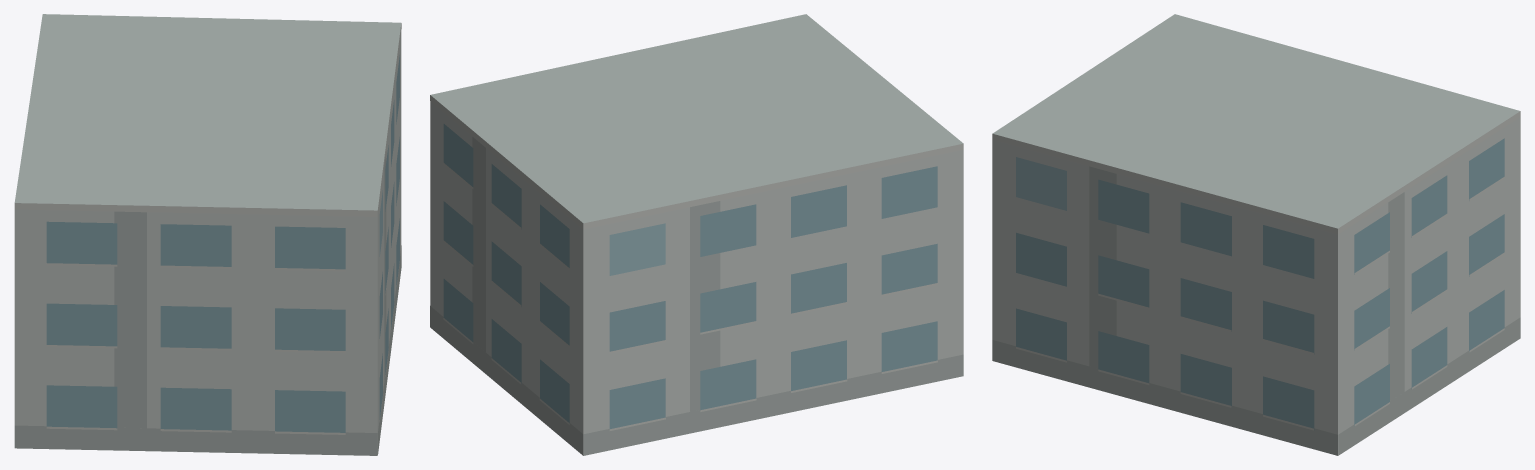
The model's file is survey-upis-32748370.glb.
3 renders of one model, left to right at view 1: azimuth 30°, elevation 25°; view 2: azimuth 150°, elevation 25°; view 3: azimuth 270°, elevation 25°, orthographic. The views are drawn at different scales.
Parts seen in each view (by area): view 1: survey-upis-32748370.tmp; view 2: survey-upis-32748370.tmp; view 3: survey-upis-32748370.tmp.
Boxes of the visible parts, x1,y1,x2,y2 form: survey-upis-32748370.tmp: (14,14,401,455); survey-upis-32748370.tmp: (430,14,963,455); survey-upis-32748370.tmp: (992,14,1520,455).
Size of the model in its own units: 18.54 by 9.15 by 19.28.
